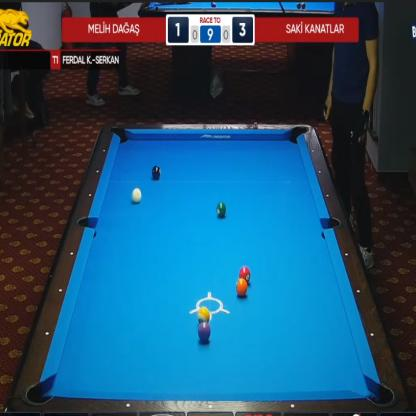Ball: (198, 322, 210, 342), (236, 278, 247, 297), (198, 306, 210, 322), (239, 266, 250, 282), (132, 187, 142, 204), (216, 202, 226, 217), (152, 165, 161, 180)
